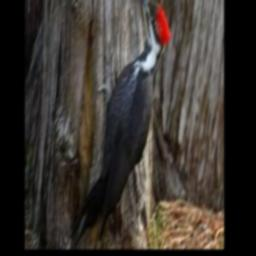Woodpecker: (75, 0, 172, 246)
